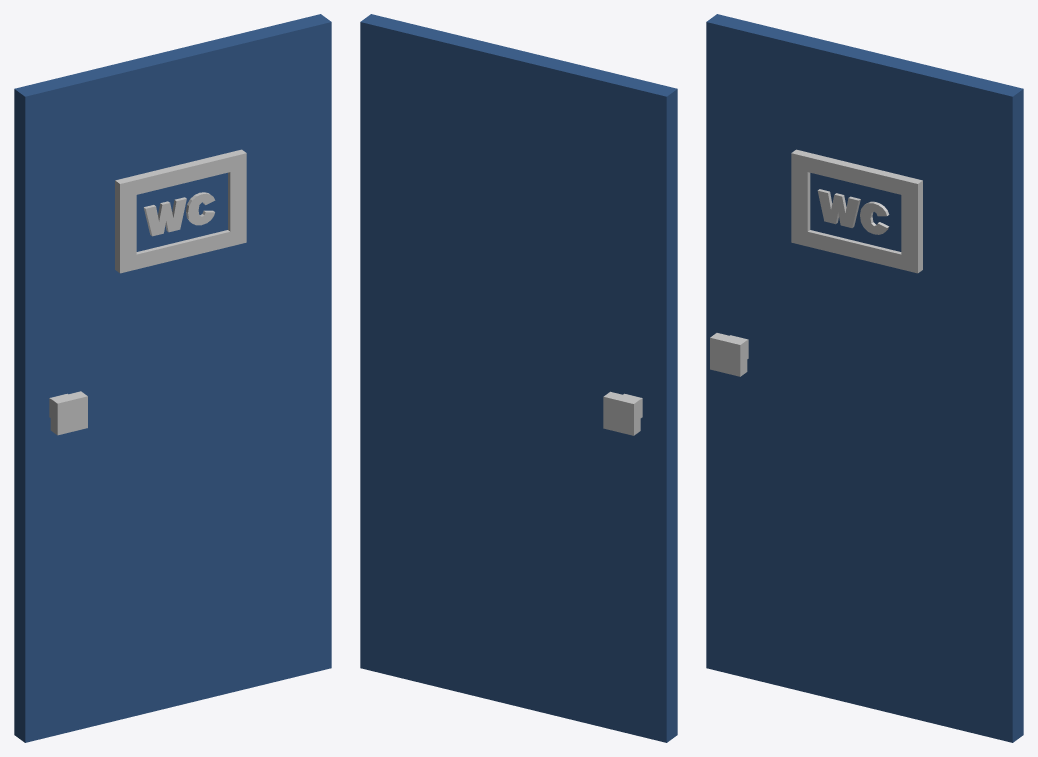
Rendered from SM_Props_WC_01_2.glb.
The picture shows the model from 3 angles, left to right: view 1: azimuth 30°, elevation 25°; view 2: azimuth 150°, elevation 25°; view 3: azimuth 330°, elevation 25°; orthographic projection.
Parts seen in each view (by area): view 1: SM_Props_WC_01_2; view 2: SM_Props_WC_01_2; view 3: SM_Props_WC_01_2.
Boxes of the visible parts, bbox=[...] form: SM_Props_WC_01_2: bbox=[14, 14, 331, 742]; SM_Props_WC_01_2: bbox=[360, 14, 677, 742]; SM_Props_WC_01_2: bbox=[706, 14, 1023, 742].
Size of the model in its own units: 0.9691 by 1.95 by 0.2198.
Materials: 1 (1 with a texture image).
